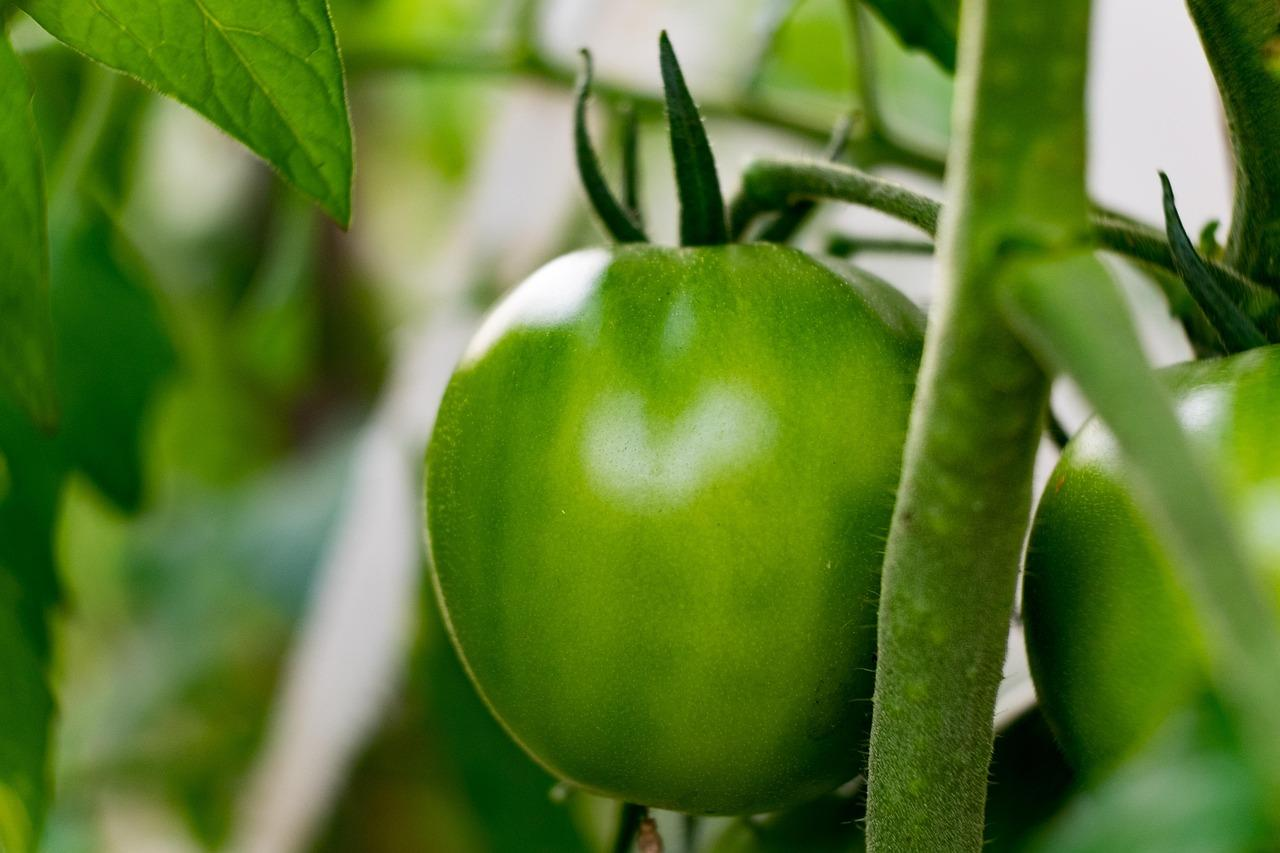Muda: (404, 180, 944, 804)
